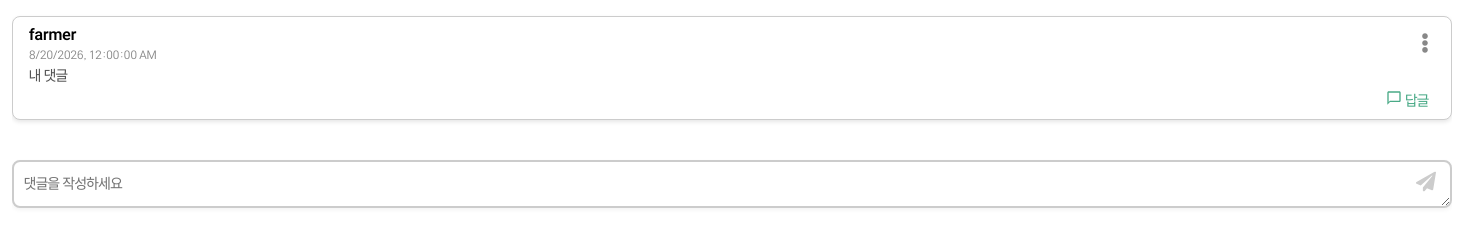
shows comment create and owner controls to an authenticated owner
This screenshot has width=1464, height=225.
Expected: the text box with placeholder "댓글을 작성하세요" is shown, [12,160,1452,208]
Click the icon named "댓글 관리" at (1425, 43), box [1415,33,1435,53]
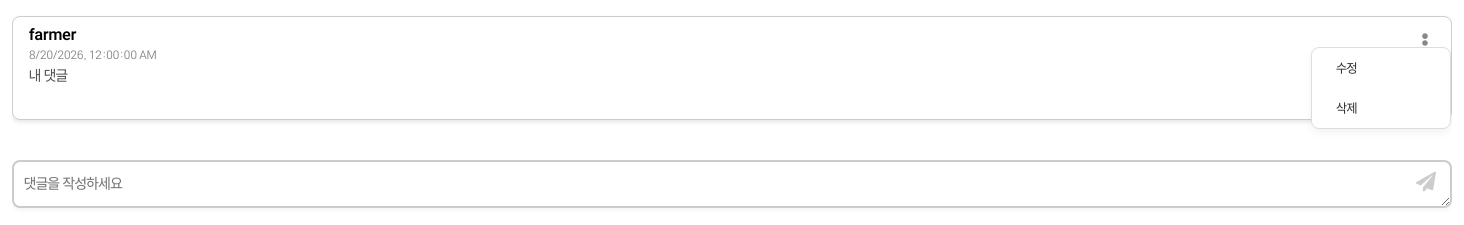
Now the button "수정" is shown, box [1312,48,1450,88]
Now the button "삭제" is shown, box [1312,88,1450,128]
